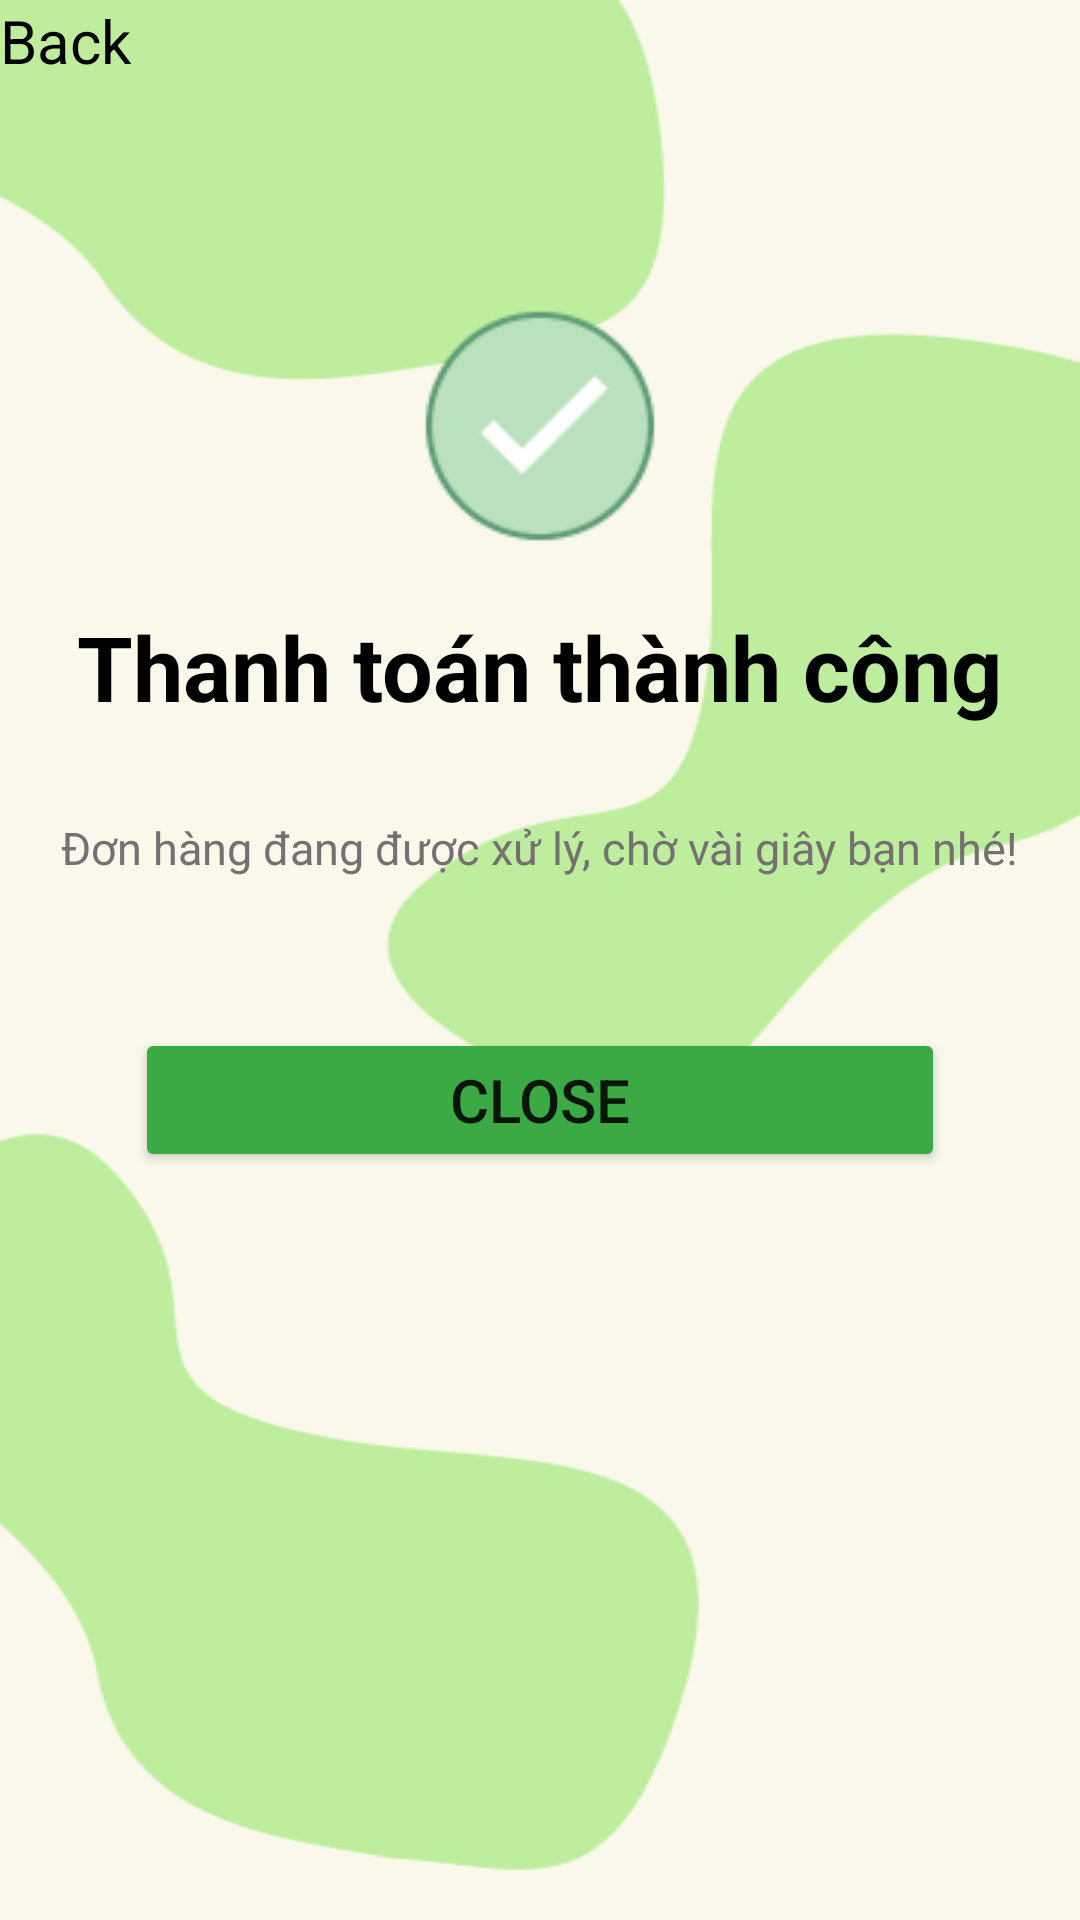

Icons on this 1080px x 1920px Android screen, each with its box as (x1, y1, x2, y2):
iconsuccess: (420, 306, 655, 541)
